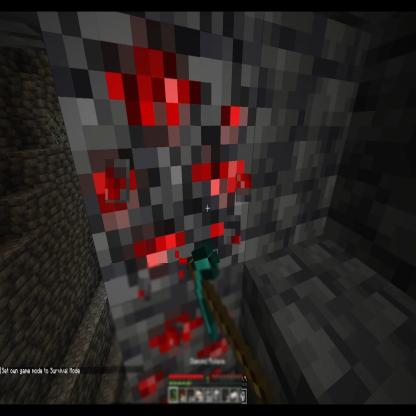redstone ore: (74, 2, 267, 307), (110, 264, 242, 414)
